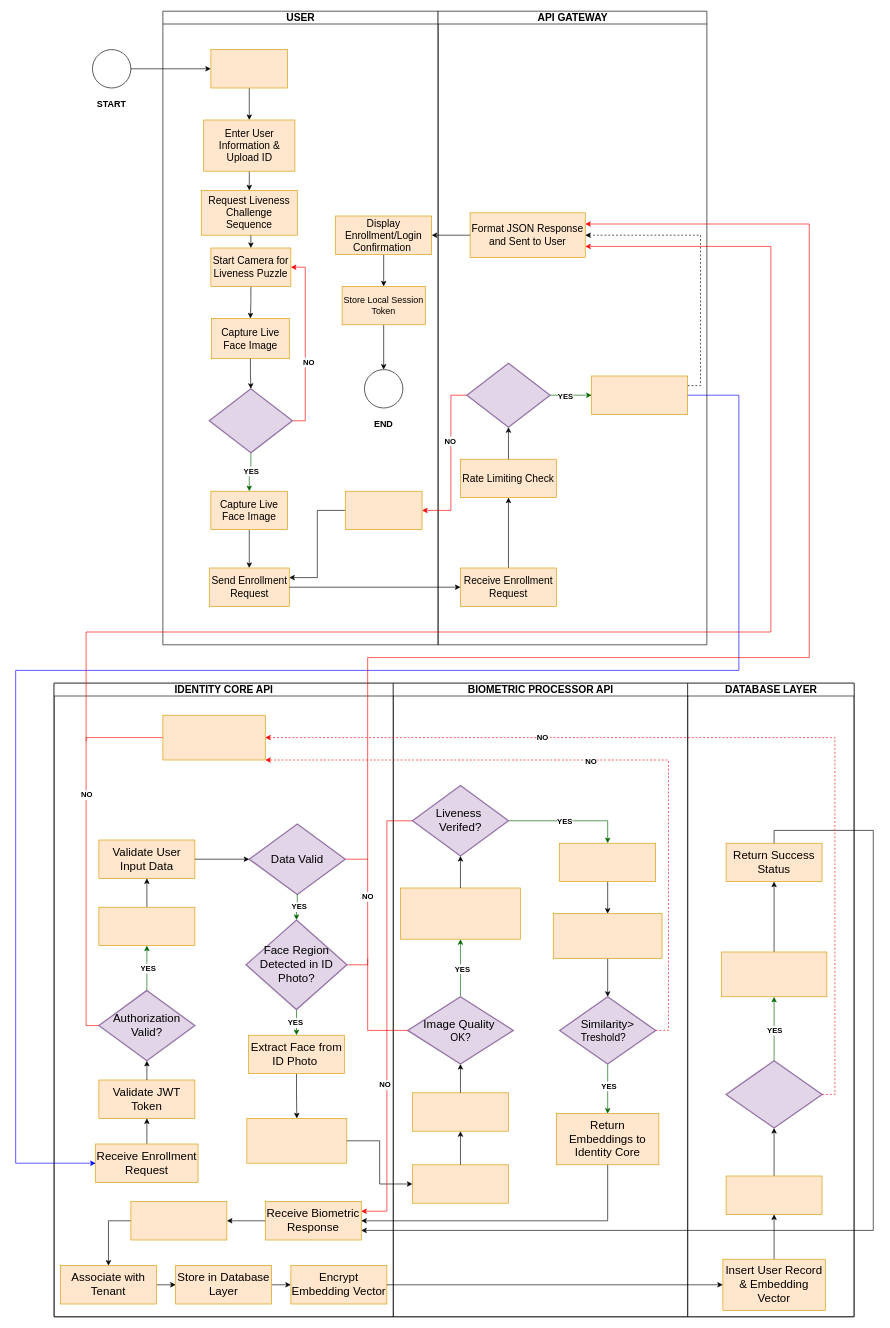
Some shapes in this 890 by 1328 pixel diagram are drawn without their labels. Here are the shapes that lost their labels. From the top down, the centre of each, then its label:
point (249, 68): Open Mobile App
point (508, 395): Rate Limit OK?
point (639, 394): Forward Request to Identity Core API
point (250, 420): Challenges Completed
point (383, 510): Display 429 Error
point (213, 737): Rollback Transaction and Return Error
point (607, 862): Extract Face from the Image
point (146, 926): Check Tenant Permissions
point (460, 913): Run Liveness Detection (MediaPipe+EAR/MAR)
point (607, 935): Generate Embedding Vectors (ID+Live Image)
point (774, 974): Update FAISS Index and Cache User in Redis
point (460, 1111): Validate Image Quality
point (773, 1094): Transaction Successfull
point (296, 1140): Send to Biometric Processor via REST
point (460, 1183): Receive Biometric Request
point (773, 1194): Begin Database Transaction
point (178, 1220): Create User Entity
